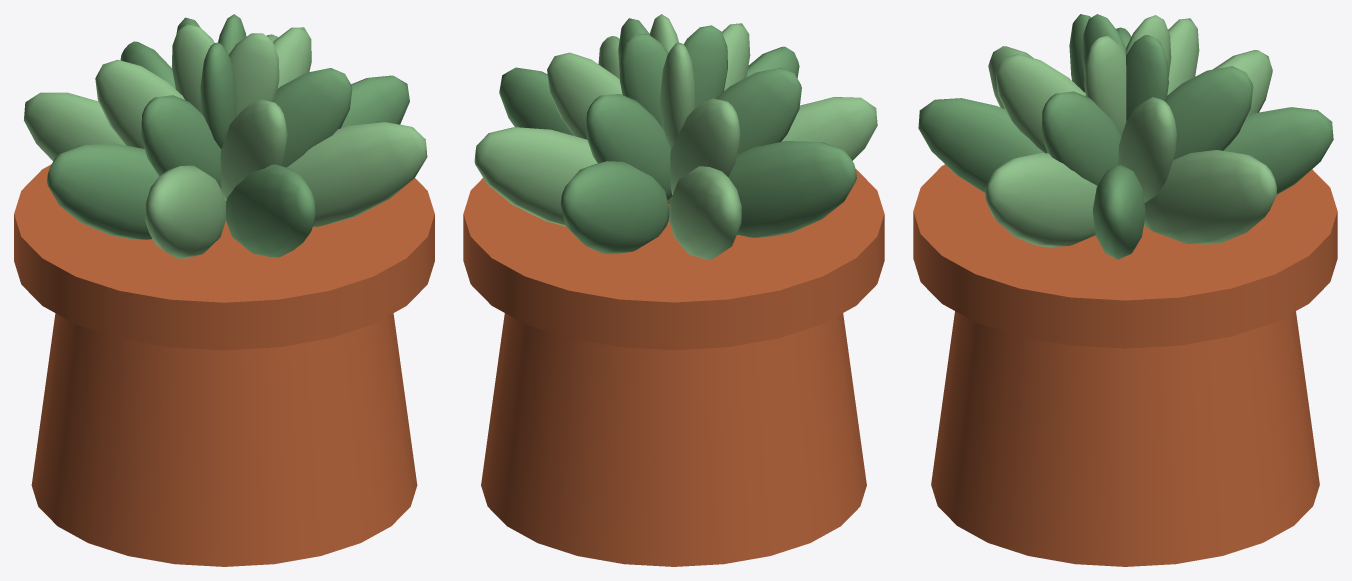
File: plant_succulent.fbx
3 renders of one model, left to right at view 1: azimuth 30°, elevation 25°; view 2: azimuth 150°, elevation 25°; view 3: azimuth 270°, elevation 25°, orthographic.
Visible parts, largest first — view 1: Succulent; view 2: Succulent; view 3: Succulent.
Part boxes in pixels (<box>): Succulent: <box>14,14,434,566</box>; Succulent: <box>463,14,884,566</box>; Succulent: <box>913,14,1337,566</box>.
Bounding box in the file's own units: 0.12 × 0.1433 × 0.12.
